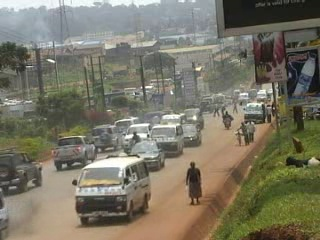Car: (0, 142, 44, 192), (127, 141, 166, 172), (119, 120, 153, 153), (90, 121, 121, 156), (180, 121, 203, 146), (181, 106, 205, 128)
Motorcycle: (125, 127, 140, 150), (220, 109, 233, 130)
